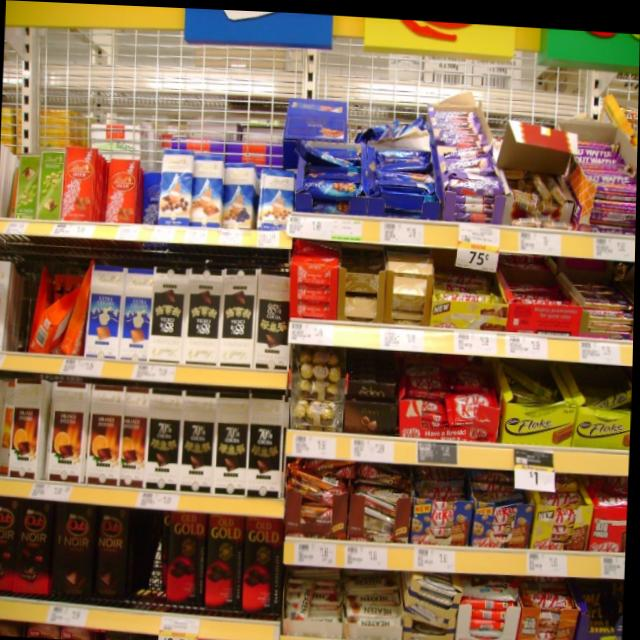q19: (454, 390, 498, 419)
q52: (245, 389, 285, 501), (143, 387, 187, 488), (180, 384, 216, 496), (216, 393, 247, 495)
